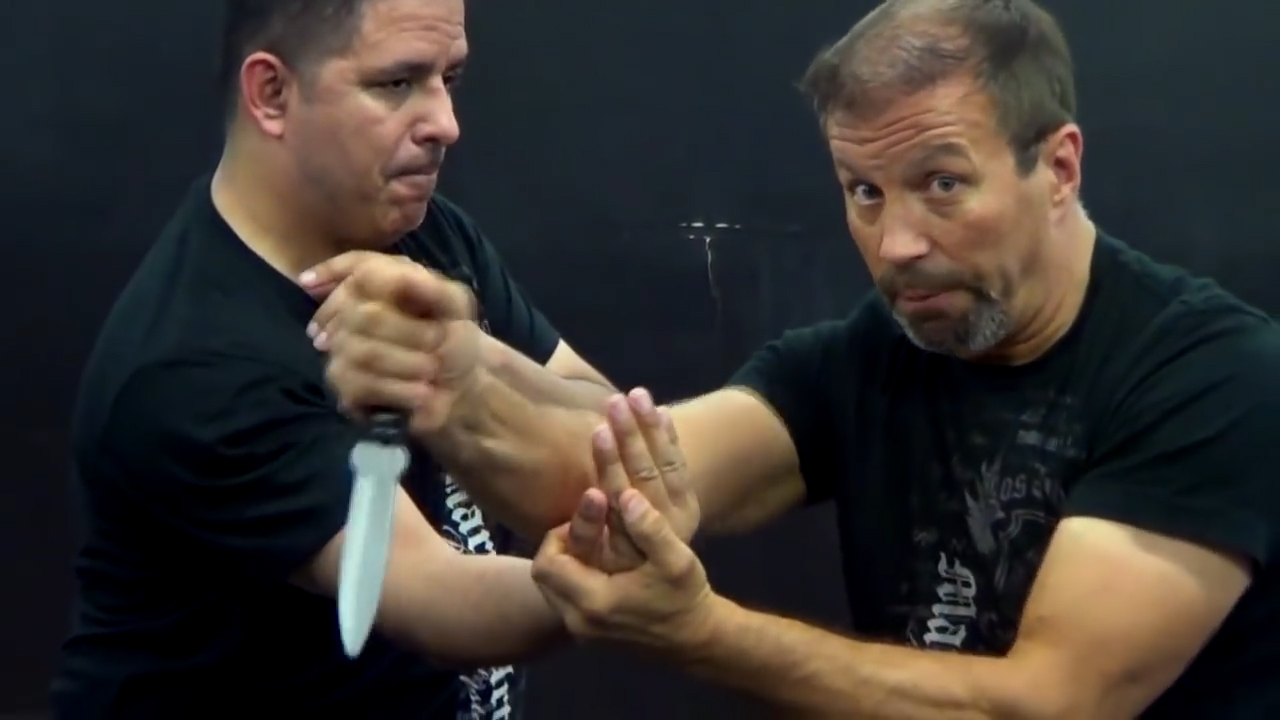knife: (311, 253, 457, 666)
